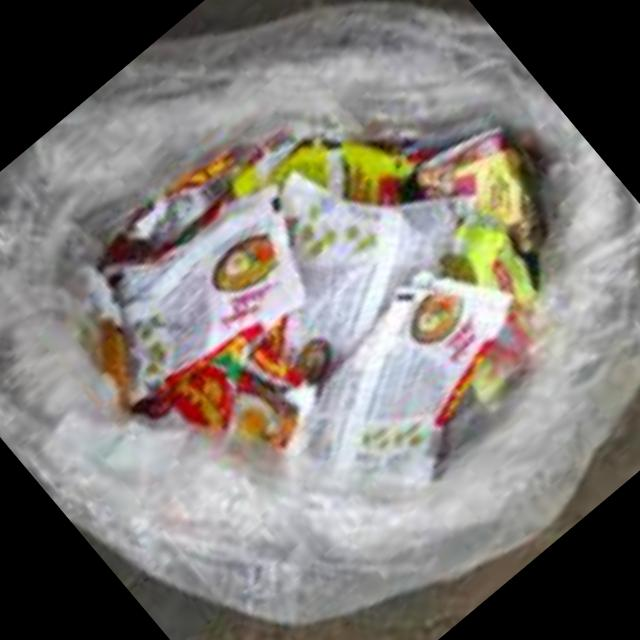KemasanPlastik: (25, 0, 640, 607)
